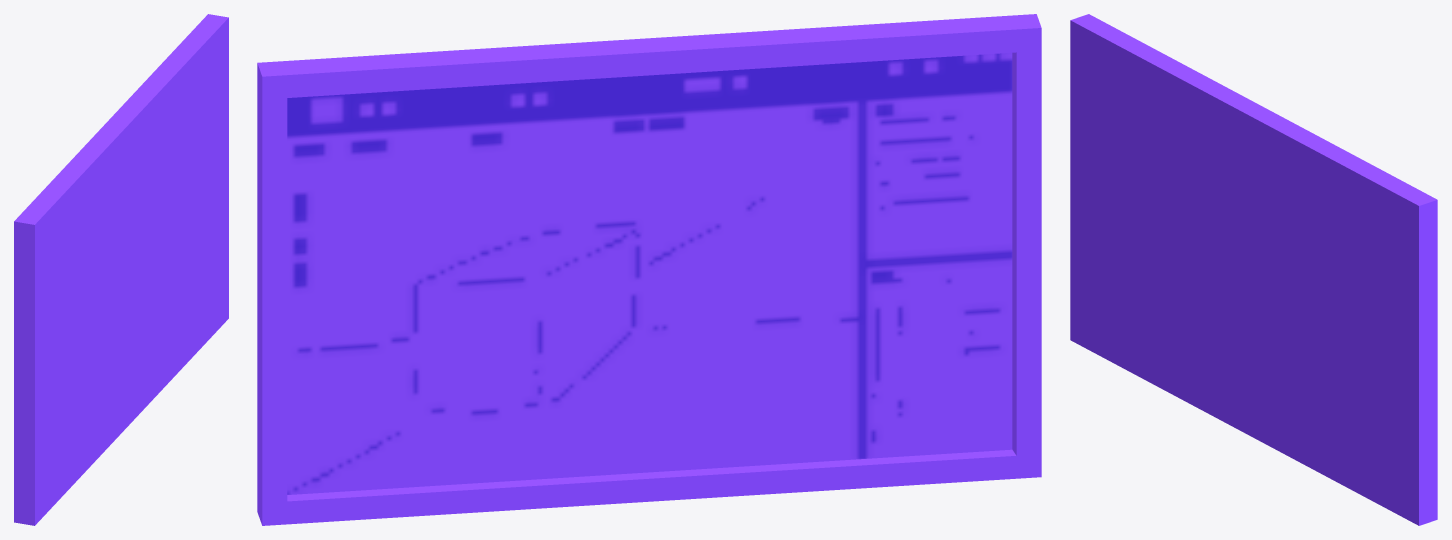
File: Screen.glb
3 renders of one model, left to right at view 1: azimuth 30°, elevation 25°; view 2: azimuth 150°, elevation 25°; view 3: azimuth 270°, elevation 25°, orthographic. The views are drawn at different scales.
Parts seen in each view (by area): view 1: Screen; view 2: Screen; view 3: Screen.
Boxes of the visible parts, left/top/right/bottom form: Screen: left=14, top=14, right=228, bottom=525; Screen: left=257, top=14, right=1041, bottom=525; Screen: left=1070, top=14, right=1437, bottom=525.
Size of the model in its own units: 0.6322 by 0.4912 by 0.5111.
1 material, 1 textured.
